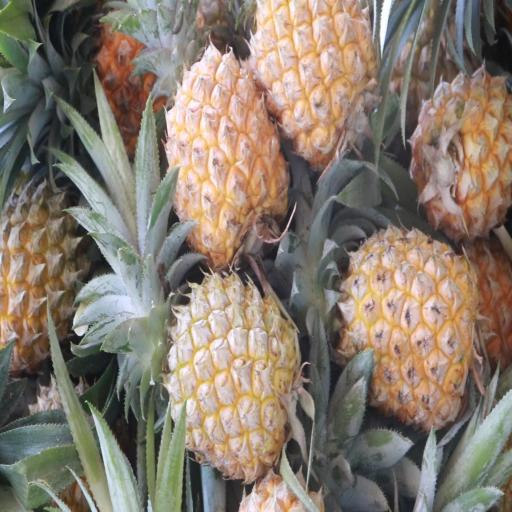------------------------------: (0, 178, 93, 356)
Pineapple - v8 v1: (344, 229, 478, 432), (167, 275, 299, 477), (163, 50, 288, 262), (255, 0, 378, 153), (418, 72, 512, 239)
